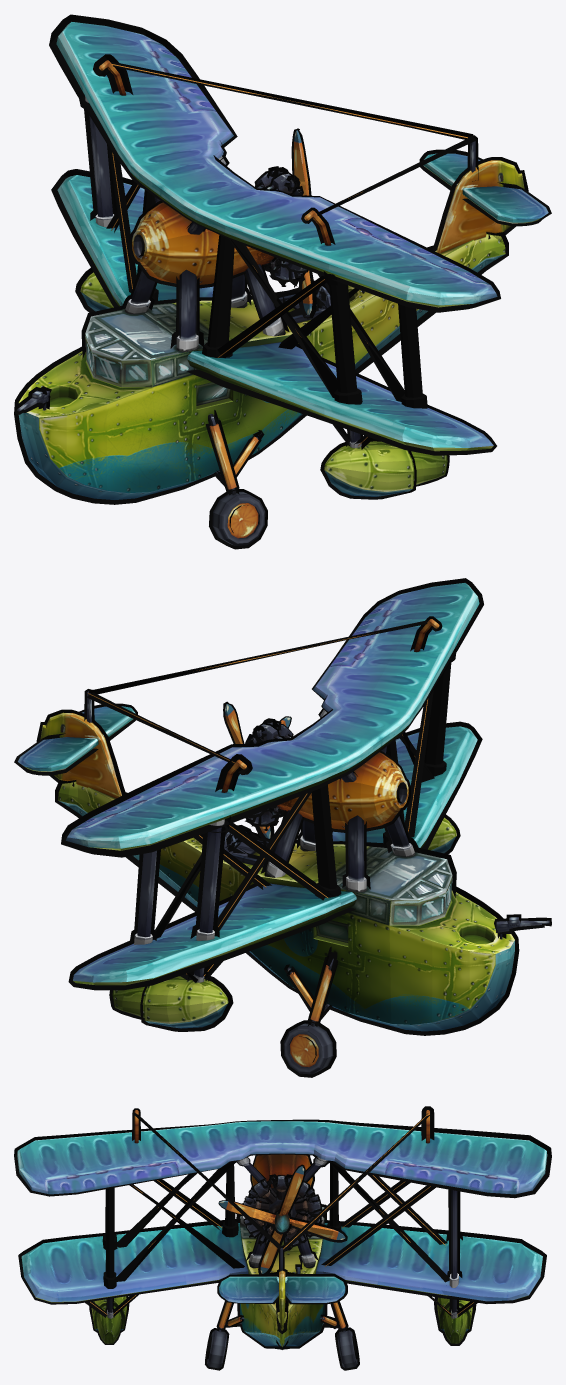
File: Texturing_Sketchfab_Export_2 1.fbx
3 renders of one model, top to bottom at view 1: azimuth 30°, elevation 25°; view 2: azimuth 150°, elevation 25°; view 3: azimuth 270°, elevation 25°, orthographic. The views are drawn at different scales.
Parts seen in each view (by area): view 1: Supermarine_Walrus, Supermarine_Walrus_Outline; view 2: Supermarine_Walrus, Supermarine_Walrus_Outline; view 3: Supermarine_Walrus, Supermarine_Walrus_Outline.
Boxes of the visible parts, box(x1,y1,x2,y2) form: Supermarine_Walrus: box(17, 22, 548, 545); Supermarine_Walrus_Outline: box(14, 14, 551, 549); Supermarine_Walrus: box(18, 583, 549, 1074); Supermarine_Walrus_Outline: box(14, 578, 551, 1077); Supermarine_Walrus: box(17, 1110, 547, 1368); Supermarine_Walrus_Outline: box(14, 1106, 551, 1370).
Bounding box in the file's own units: 1305 × 884 × 1604.
